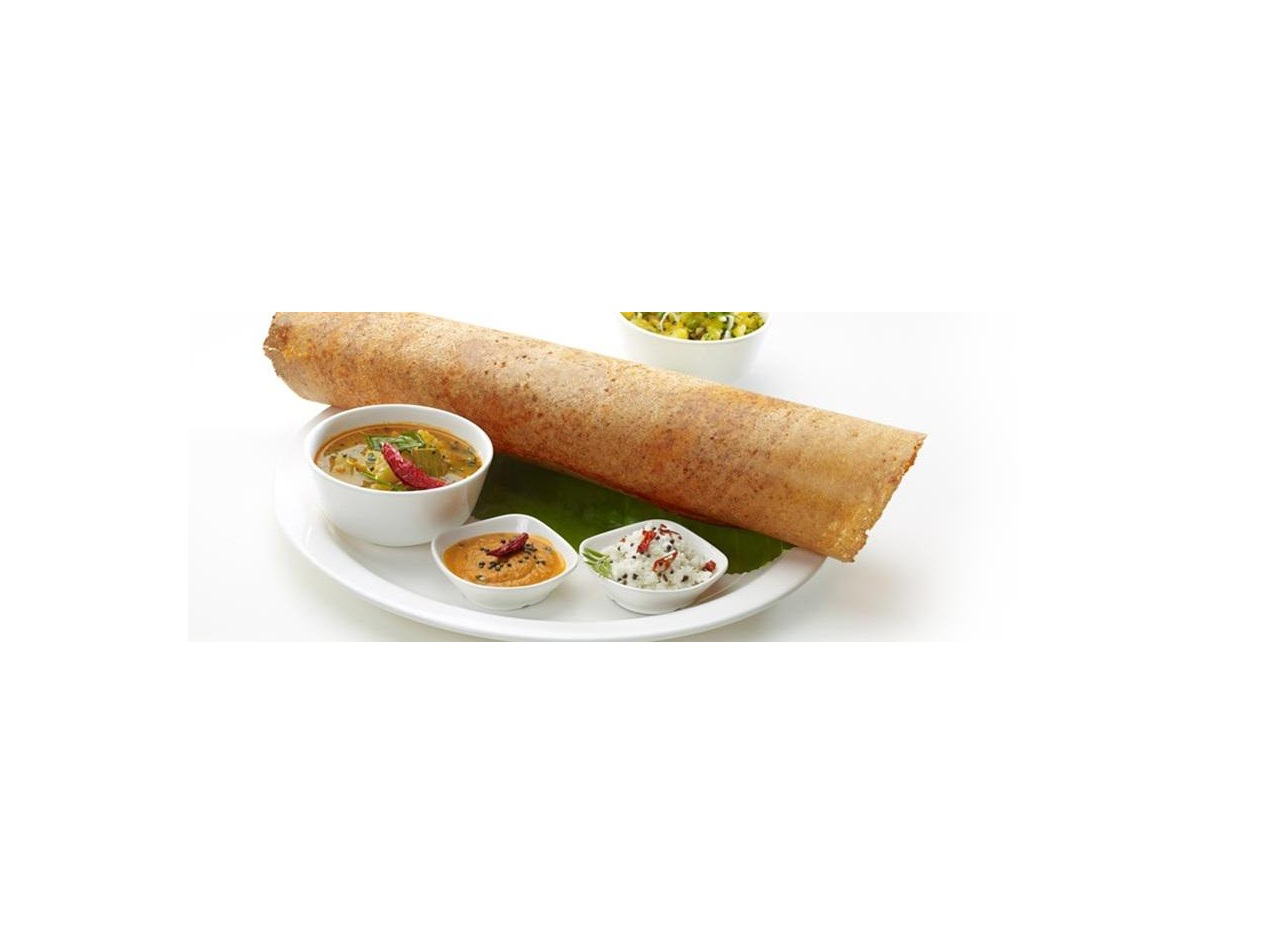dosa: (257, 307, 930, 568)
